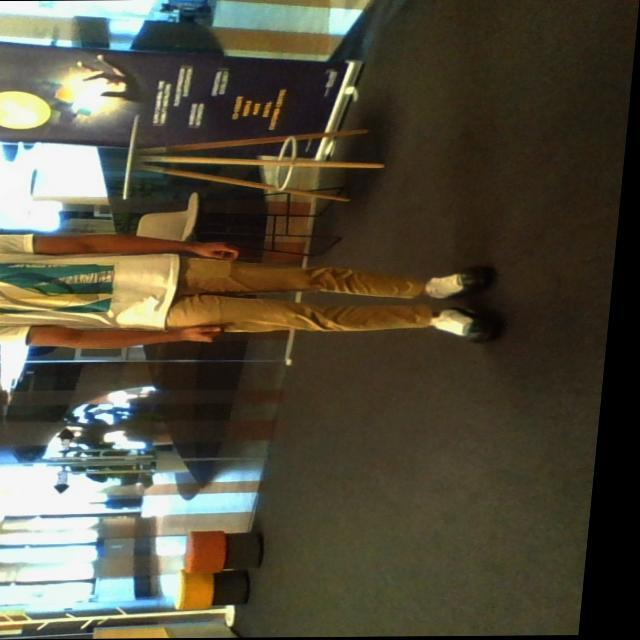shoes: (423, 300, 495, 351), (416, 263, 495, 303)
